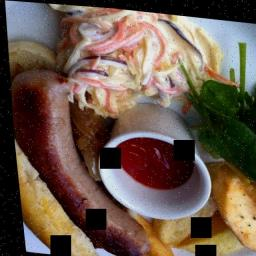hotdog: (5, 65, 114, 207), (80, 207, 146, 256)
